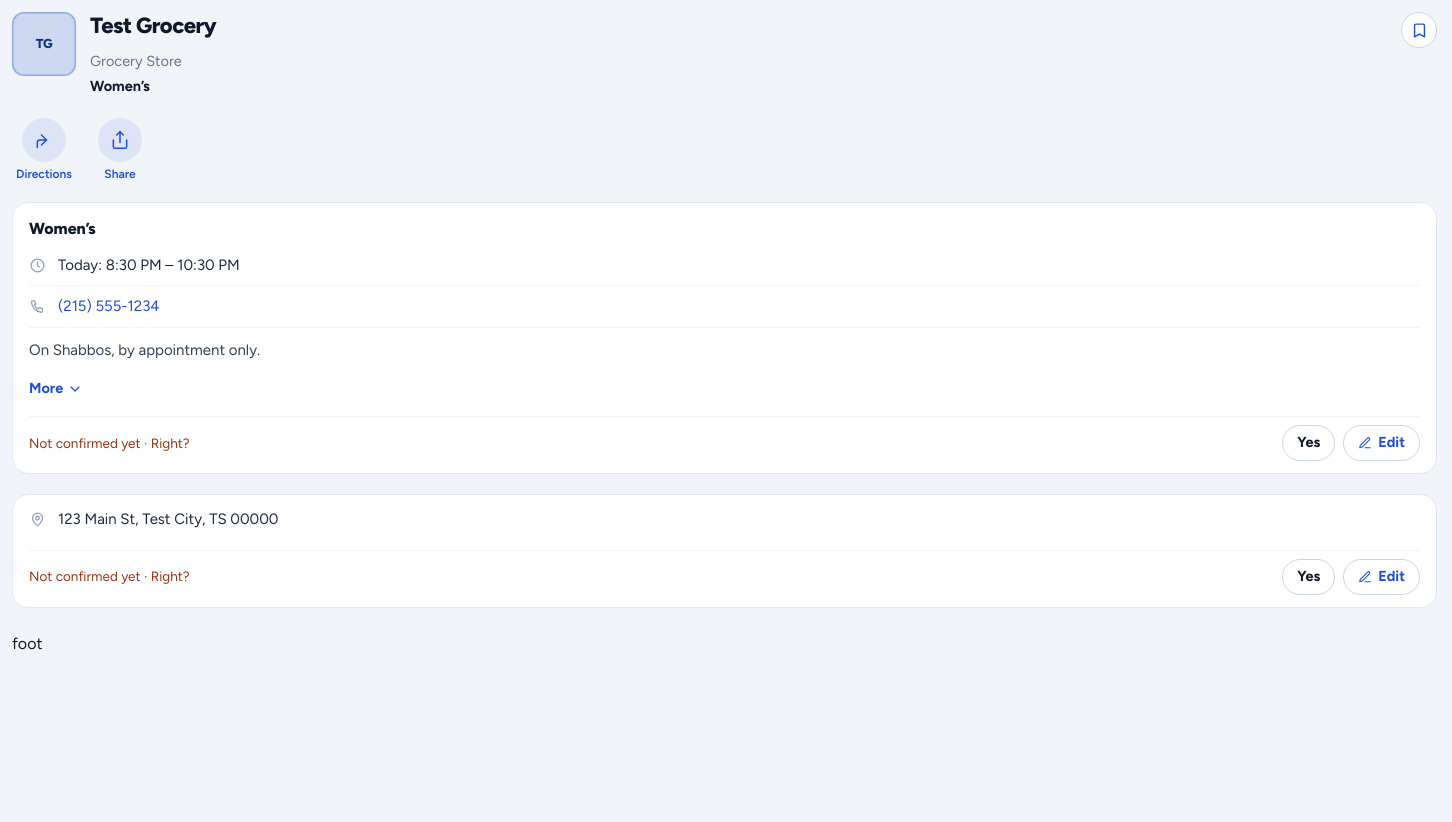
Test: ListingView — a mikvah’s boxes (Oct 6) › today’s hours, the phone and the notes’ first sentence; the week and the rest a tap away
The width and height of the screenshot is (1452, 822).
Expected: the element with test id "listing-groups" shows "On Shabbos, by appointment only.", [29,341,260,359]
Expected: the element with test id "listing-groups" does not show "Motzei Shabbos", [12,202,1437,474]
# "More", not "Week and notes" (the user, Oct 10).
Click the button "More". click: (56, 389)
box: [29,372,83,406]
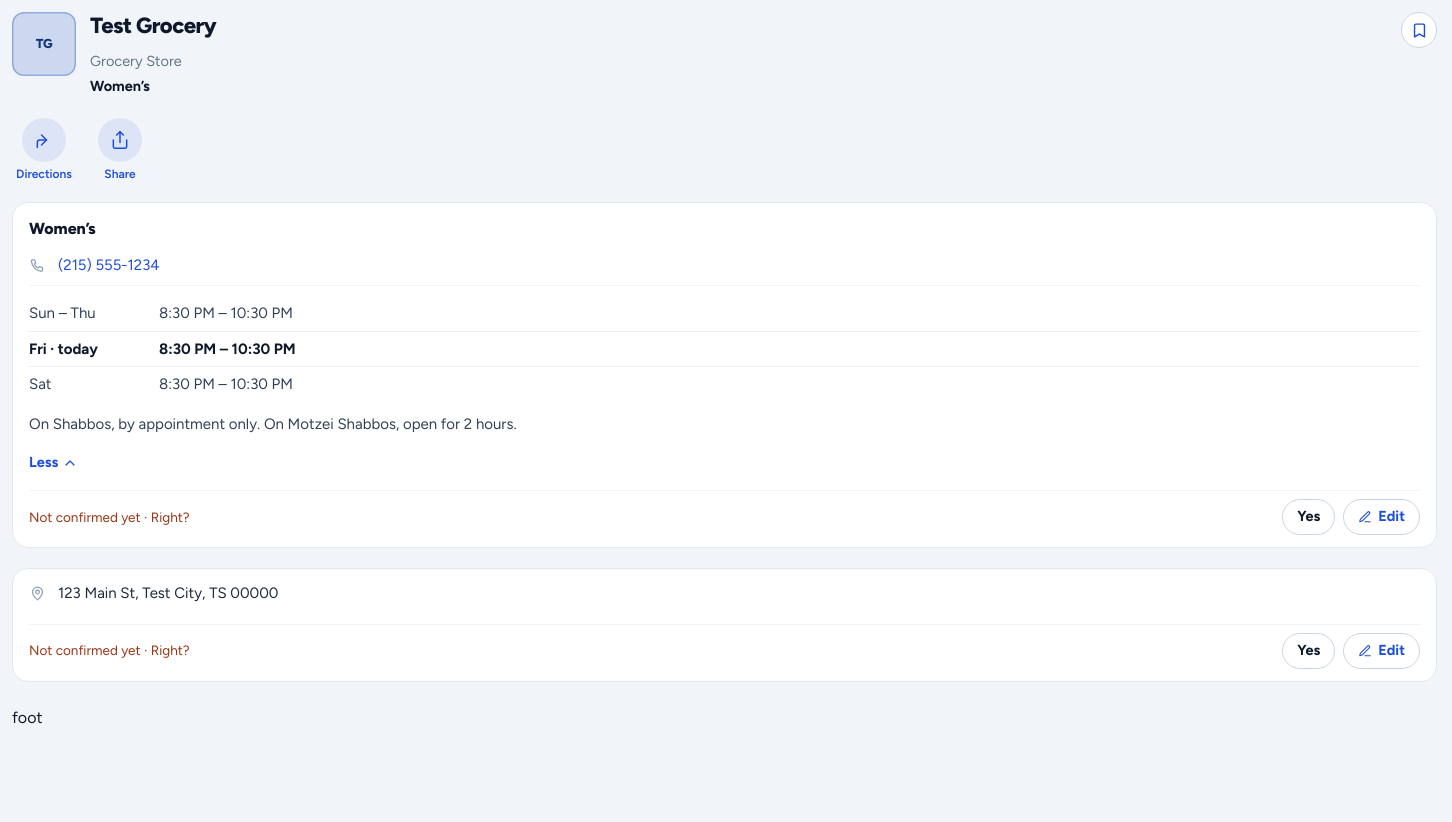
Result: the element with test id "listing-group-more" shows "On Motzei Shabbos, open for 2 hours." at [29,415,516,433]
Result: the button "Less" is expanded at [29,446,78,480]
Result: the text "Today:" is gone
